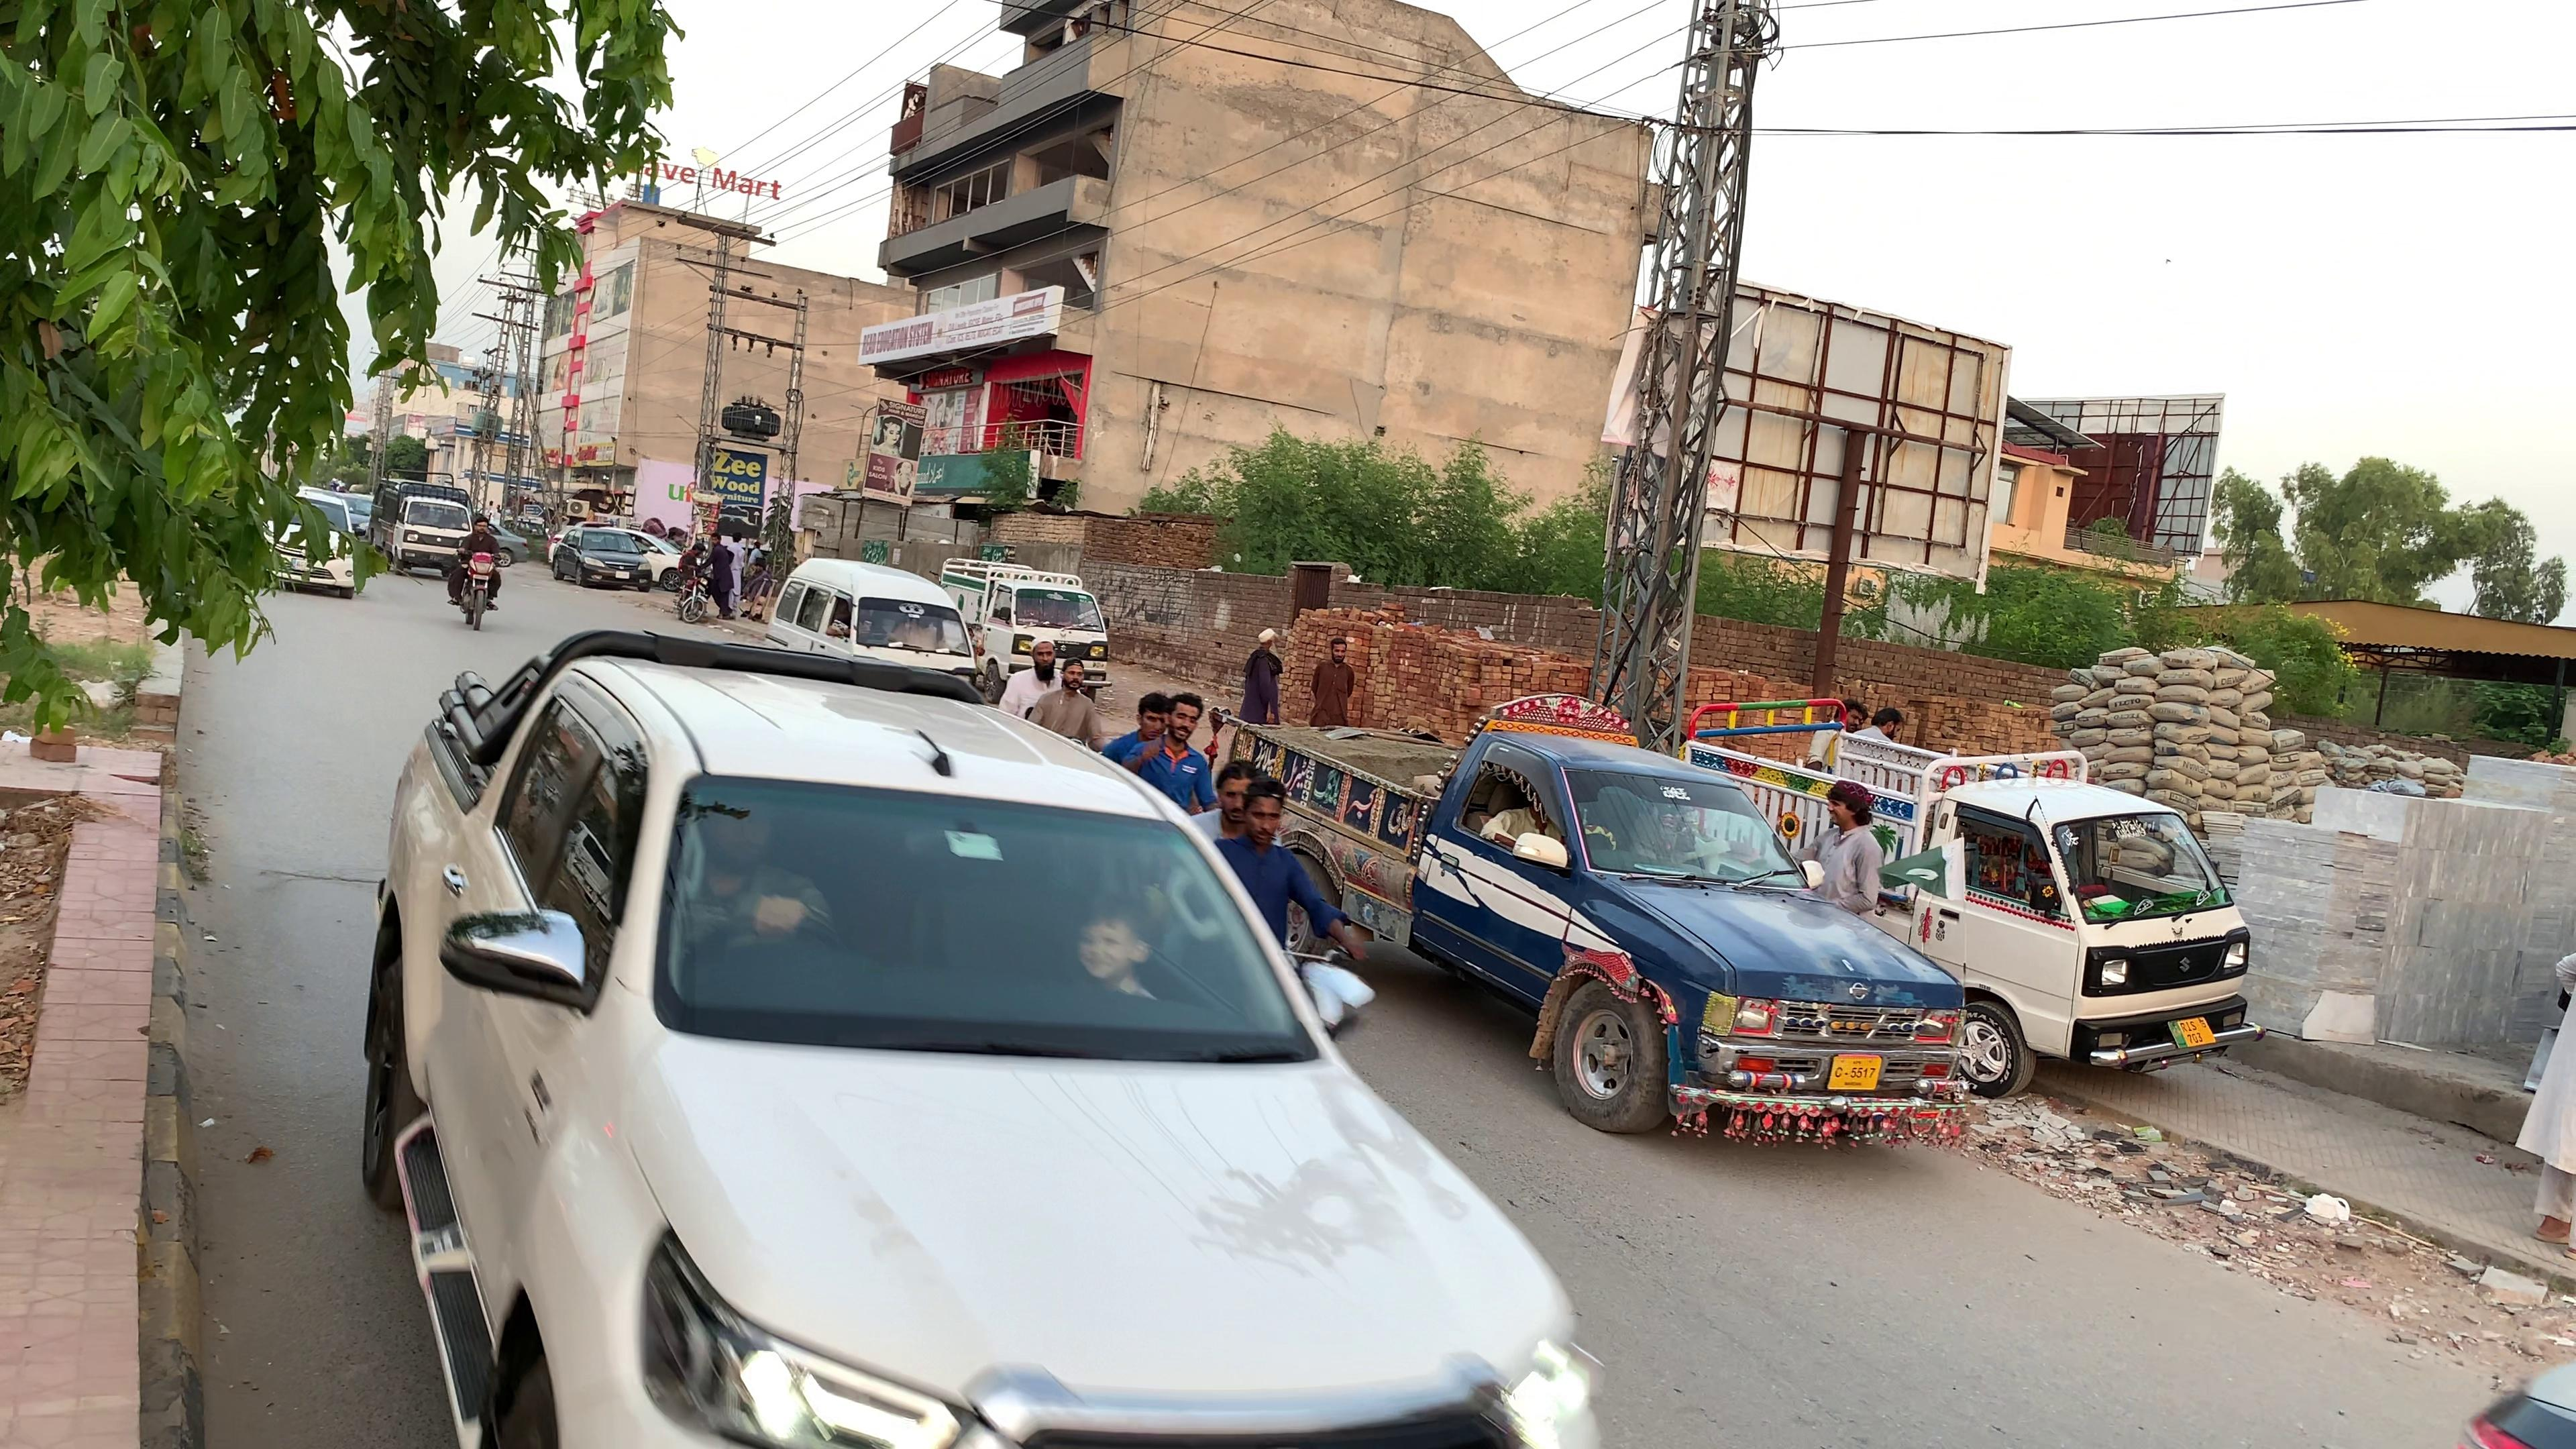windshield: (651, 764, 1332, 1060)
